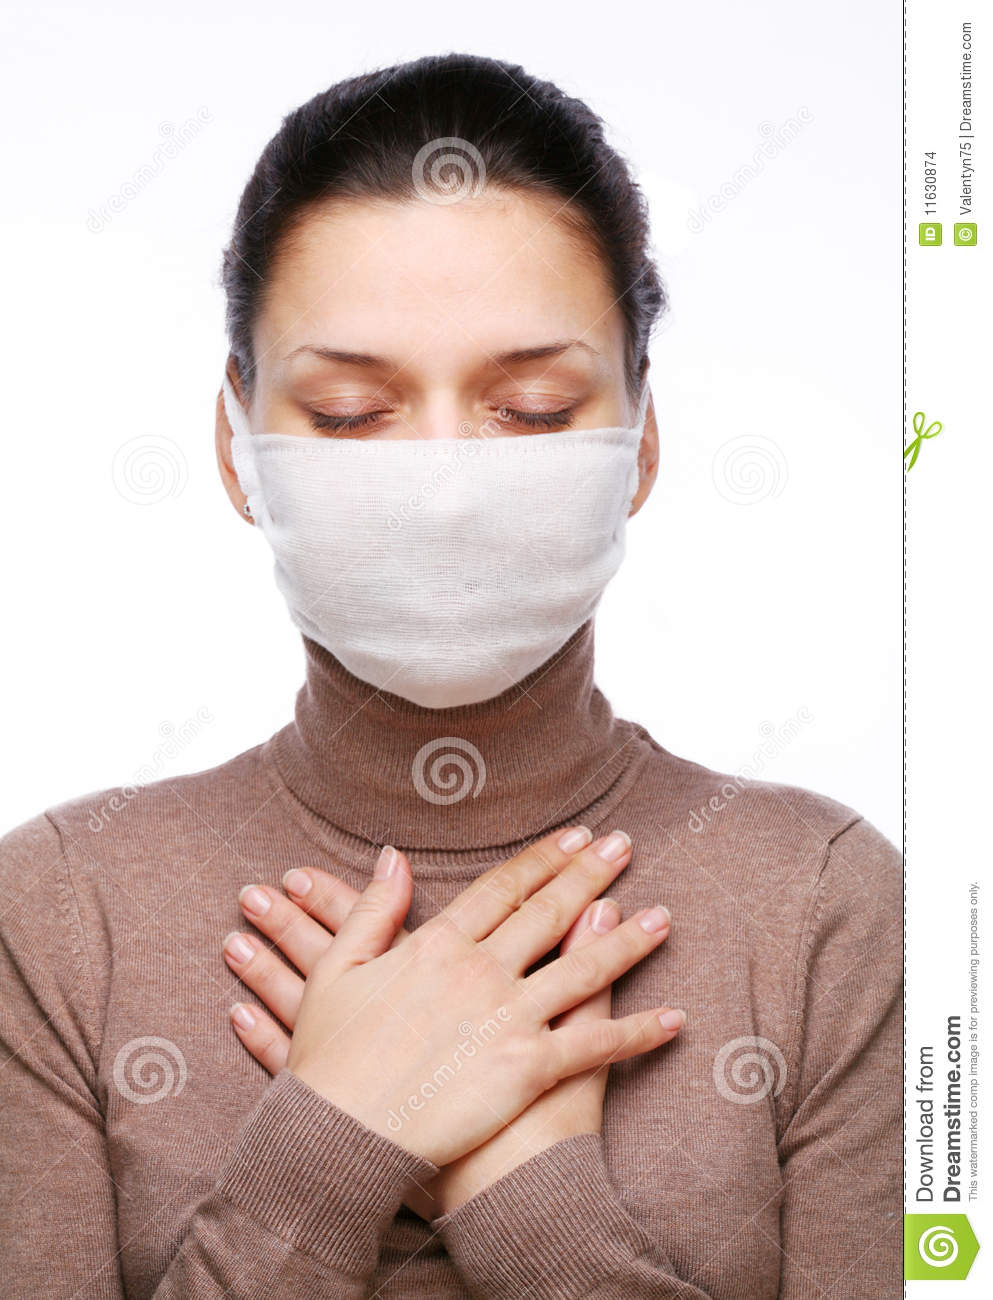mask: (231, 422, 641, 714)
